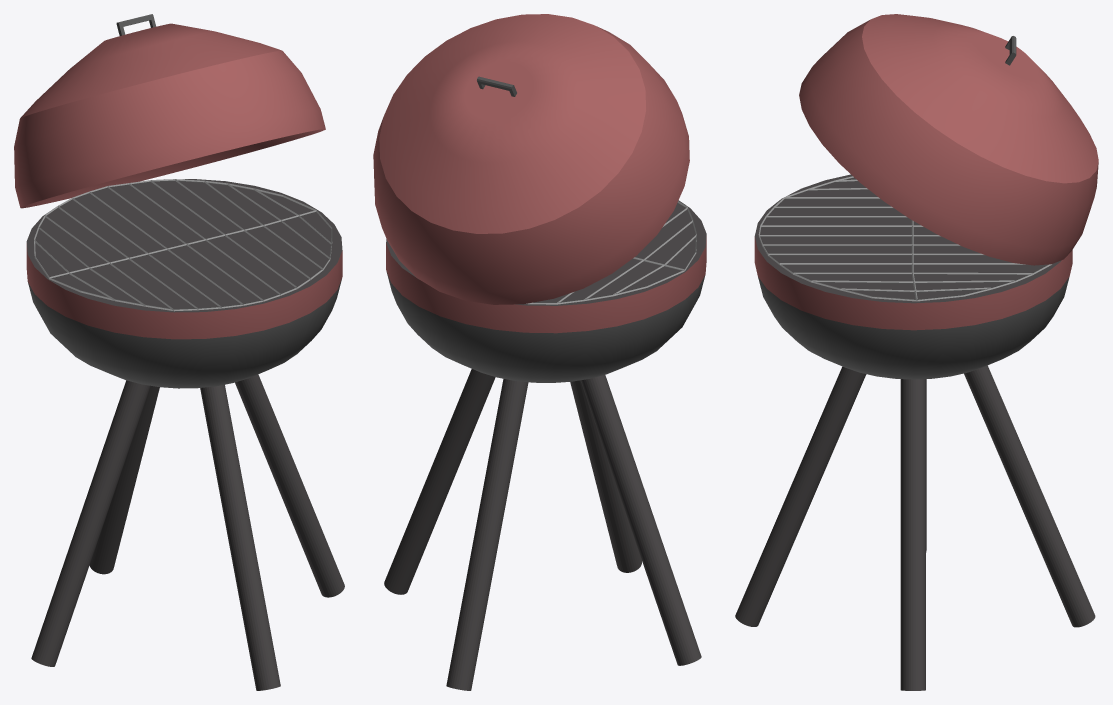
Rendered from BBQ Grill (With Lid).fbx.
The picture shows the model from 3 angles, left to right: view 1: azimuth 30°, elevation 25°; view 2: azimuth 150°, elevation 25°; view 3: azimuth 270°, elevation 25°; orthographic projection.
Visible parts, largest first — view 1: polySurface5; view 2: polySurface5; view 3: polySurface5.
Boxes of the visible parts, x1,y1,x2,y2 form: polySurface5: (14,14,344,690); polySurface5: (373,14,706,690); polySurface5: (735,14,1098,690).
Size of the model in its own units: 718 by 1298 by 727.
